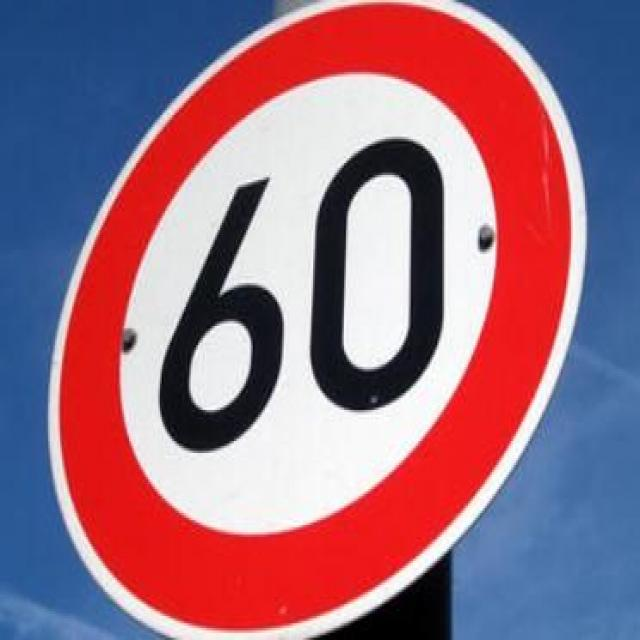speed_limit_60: (43, 0, 581, 630)
